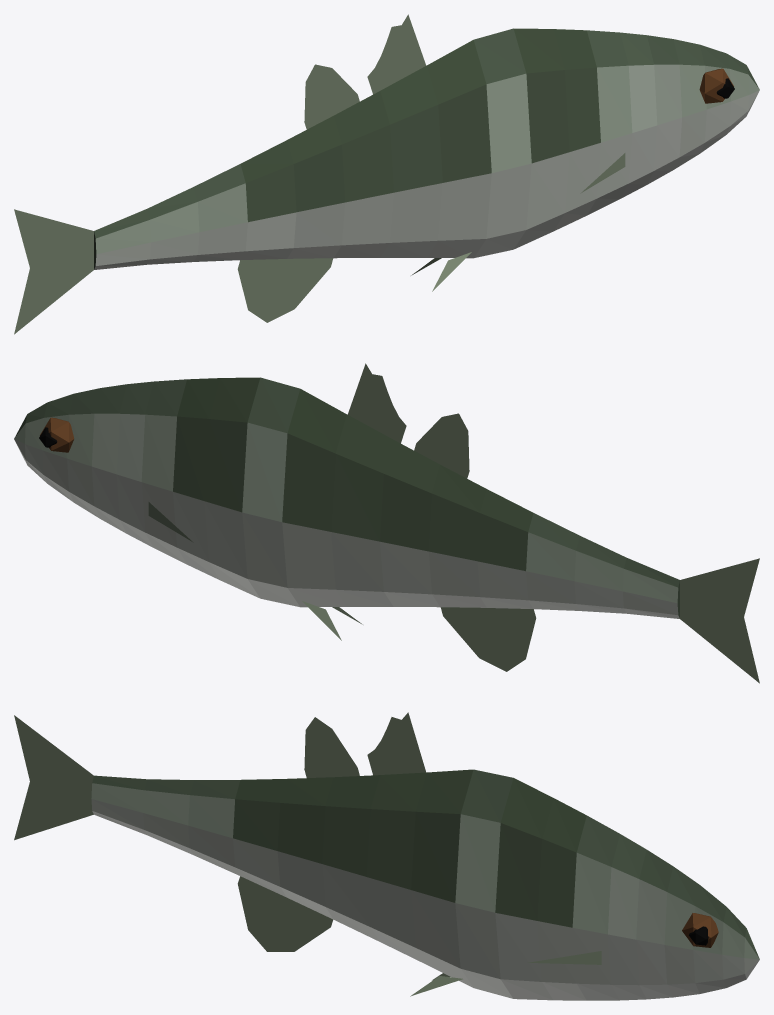
Rendered from white-crappie.glb.
3 views of the same model, one above another, from view 1: azimuth 30°, elevation 25°; view 2: azimuth 150°, elevation 25°; view 3: azimuth 330°, elevation 25° (orthographic).
Visible parts, largest first — view 1: white-crappie; view 2: white-crappie; view 3: white-crappie.
Boxes of the visible parts, left/top/right/bottom form: white-crappie: left=14, top=14, right=759, bottom=334; white-crappie: left=14, top=363, right=759, bottom=683; white-crappie: left=14, top=712, right=759, bottom=1000.
Size of the model in its own units: 1.12 by 0.3937 by 0.1367.
